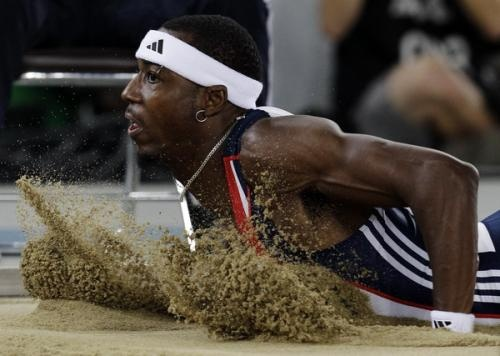falling: (104, 9, 500, 343)
